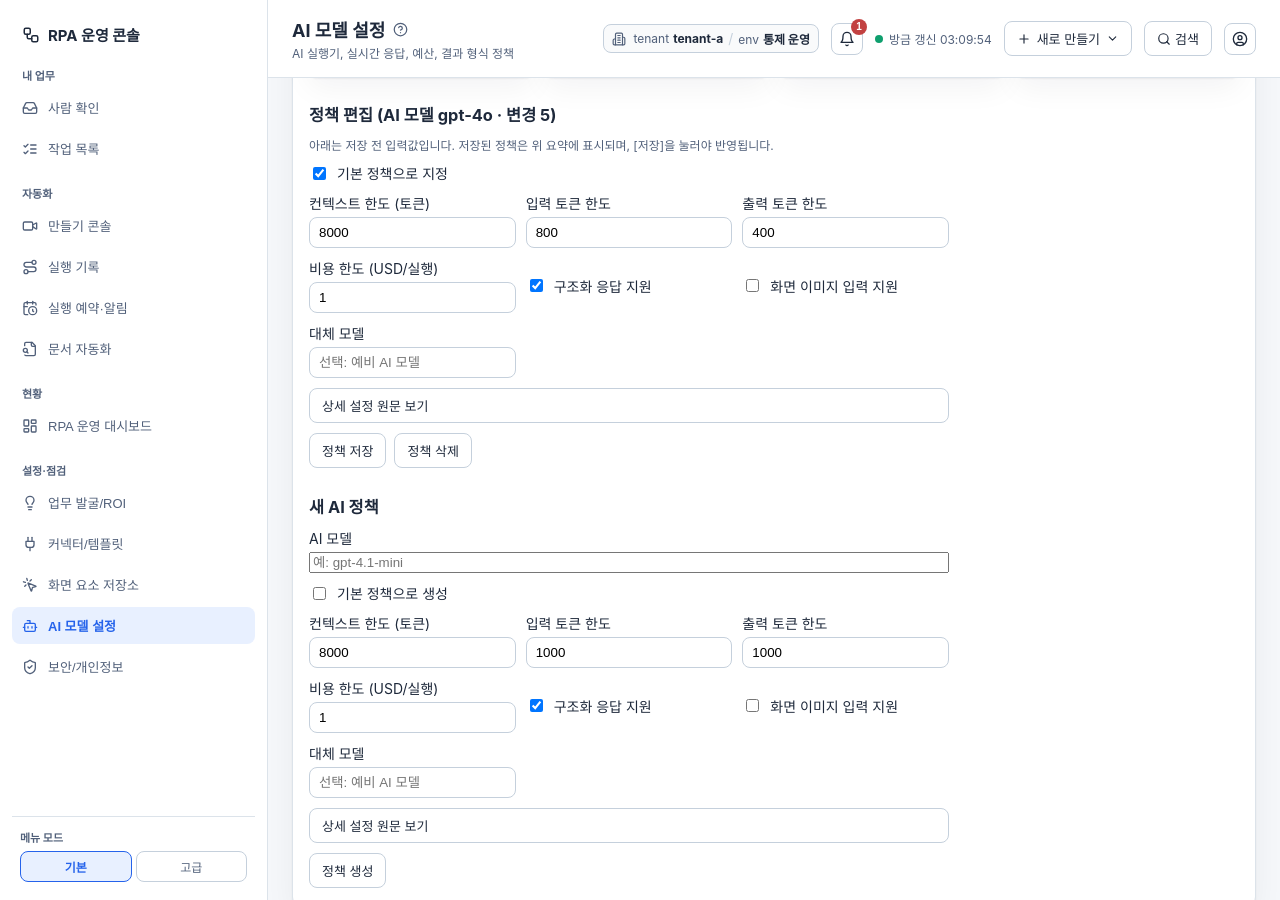
Test case: LLM 게이트웨이 정책 — 목록·기본·CRUD › admin gateway 정책 편집: 목록 선택 정책을 PUT If-Match(version)+Idempotency-Key로 저장
(page scrolled)
Click the button "정책 저장": (348, 450) [309,433,386,468]
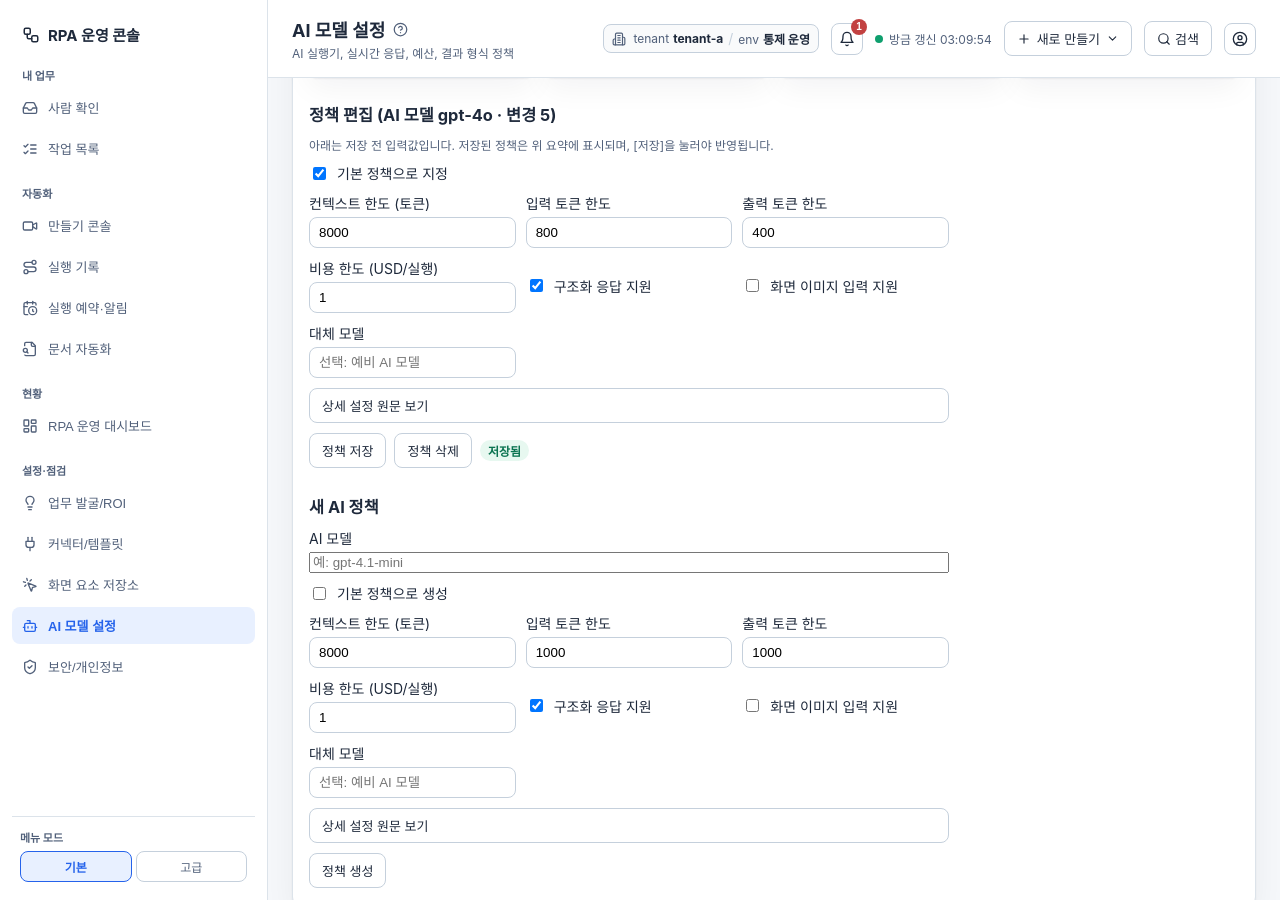
expect the text "저장됨" is shown: met, box [480,440,529,461]
